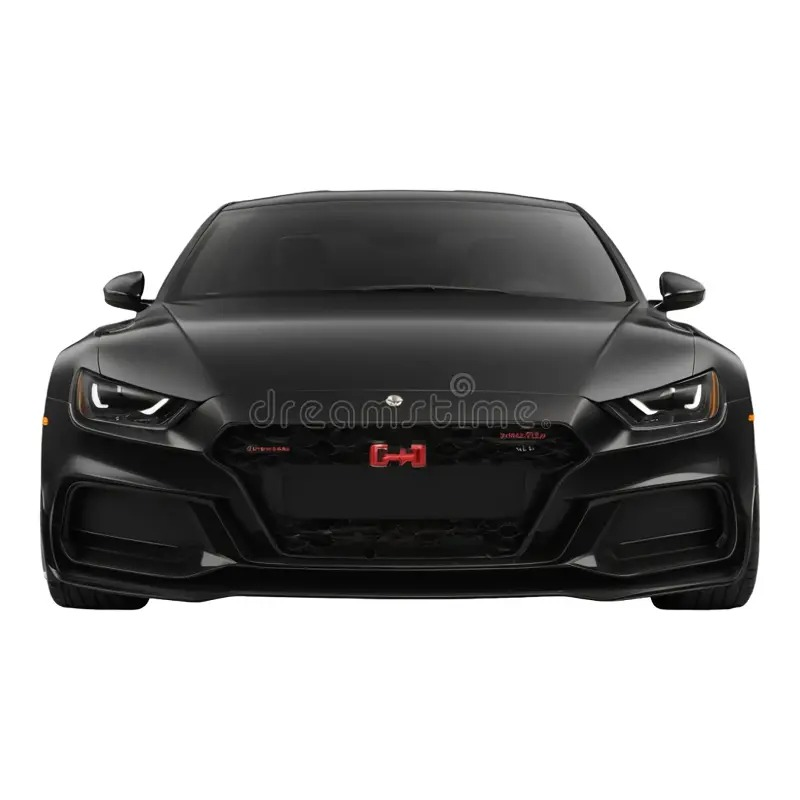car: (45, 177, 774, 620)
